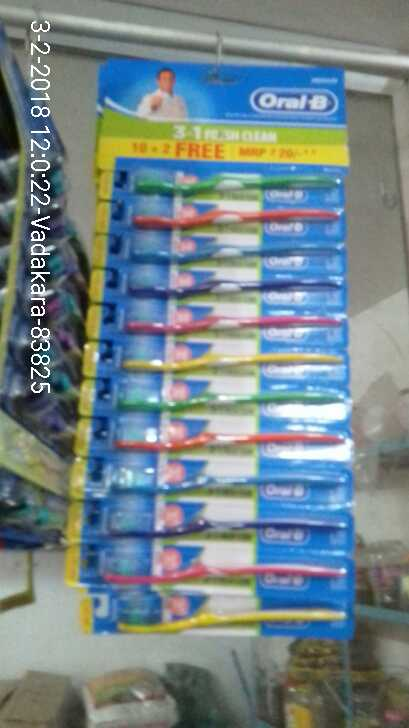oralb: (83, 590, 358, 641), (90, 499, 352, 549), (87, 543, 358, 589), (99, 377, 354, 422), (94, 461, 356, 503), (97, 417, 354, 459), (103, 302, 350, 343), (111, 232, 349, 274), (102, 341, 353, 380), (118, 158, 338, 202), (106, 266, 348, 305), (116, 198, 347, 238)
